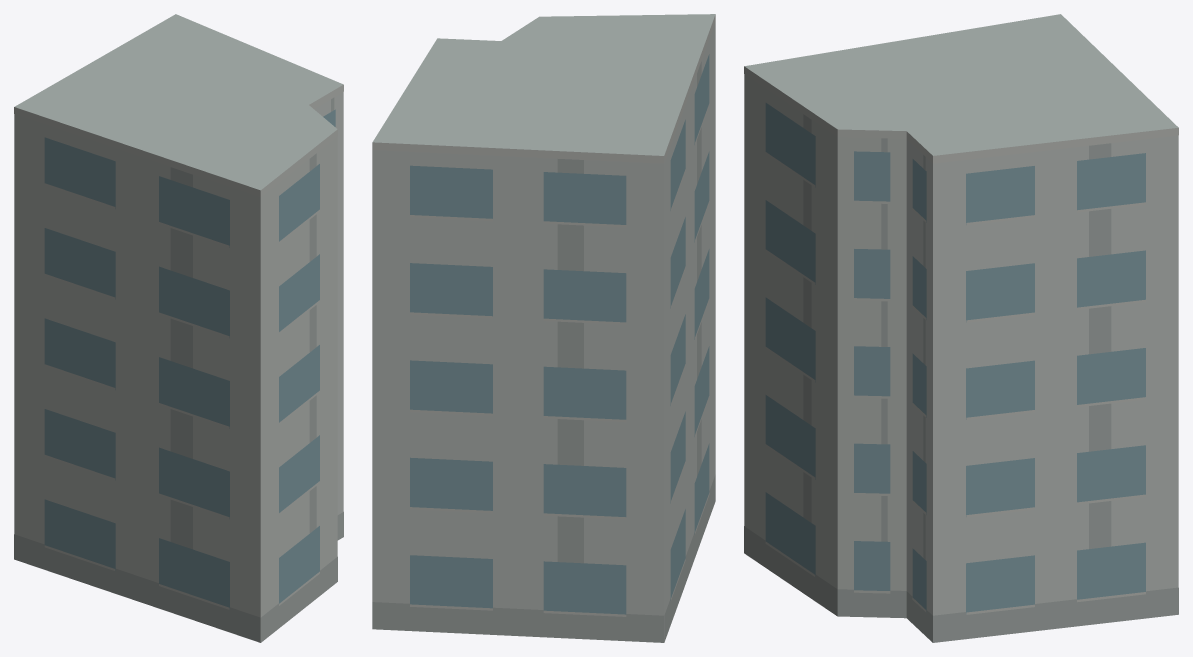
Rendered from survey-upis-32474809.glb.
3 views of the same model, side by side, from view 1: azimuth 30°, elevation 25°; view 2: azimuth 150°, elevation 25°; view 3: azimuth 270°, elevation 25° (orthographic). The views are drawn at different scales.
Visible parts, largest first — view 1: survey-upis-32474809.tmp; view 2: survey-upis-32474809.tmp; view 3: survey-upis-32474809.tmp.
Part boxes in pixels (<box>): survey-upis-32474809.tmp: <box>14,14,343,642</box>; survey-upis-32474809.tmp: <box>372,14,715,642</box>; survey-upis-32474809.tmp: <box>744,14,1178,642</box>.
Bounding box in the file's own units: 9.54 × 15.25 × 12.35.
